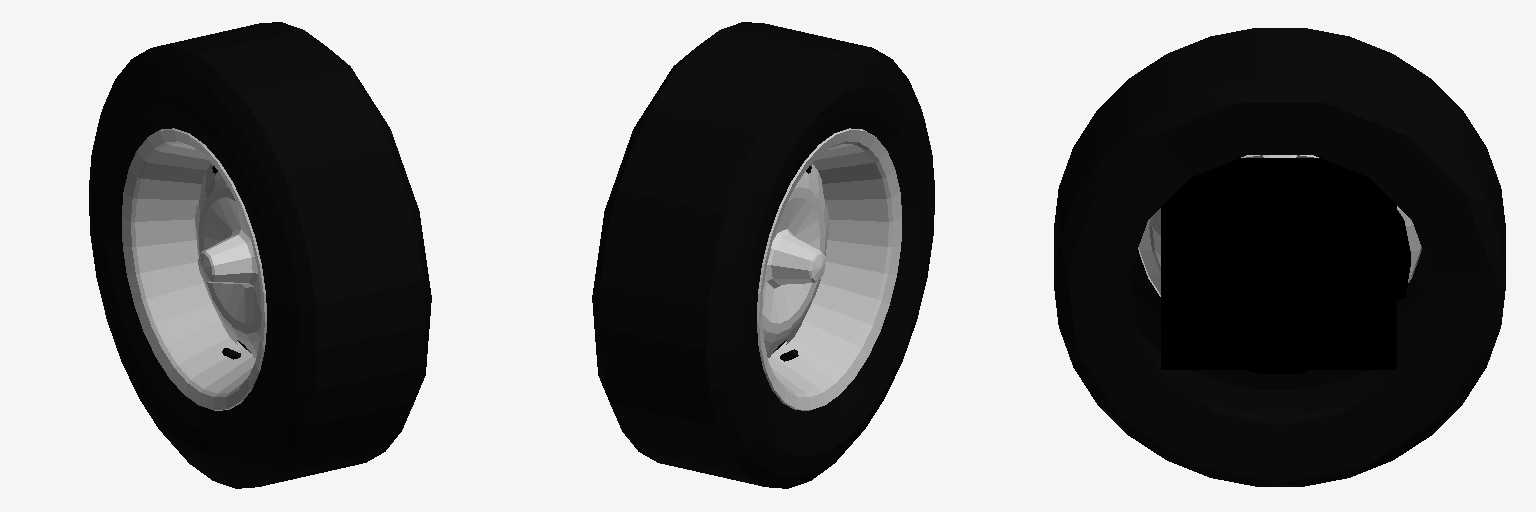
The model's file is TireASX-mtl.obj.
3 views of the same model, side by side, from view 1: azimuth 30°, elevation 25°; view 2: azimuth 150°, elevation 25°; view 3: azimuth 270°, elevation 25° (orthographic).
Visible parts, largest first — view 1: CHALLENGER71.003_CHALLENGER71.010; view 2: CHALLENGER71.003_CHALLENGER71.010; view 3: CHALLENGER71.003_CHALLENGER71.010.
Boxes of the visible parts, x1,y1,x2,y2 form: CHALLENGER71.003_CHALLENGER71.010: [89, 22, 431, 488]; CHALLENGER71.003_CHALLENGER71.010: [592, 22, 934, 488]; CHALLENGER71.003_CHALLENGER71.010: [1054, 28, 1505, 486].
Bounding box in the file's own units: 0.2377 × 0.6428 × 0.6434.